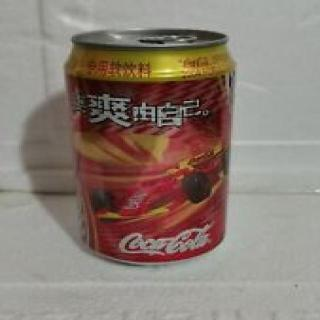Anorganik: (59, 20, 241, 271)
